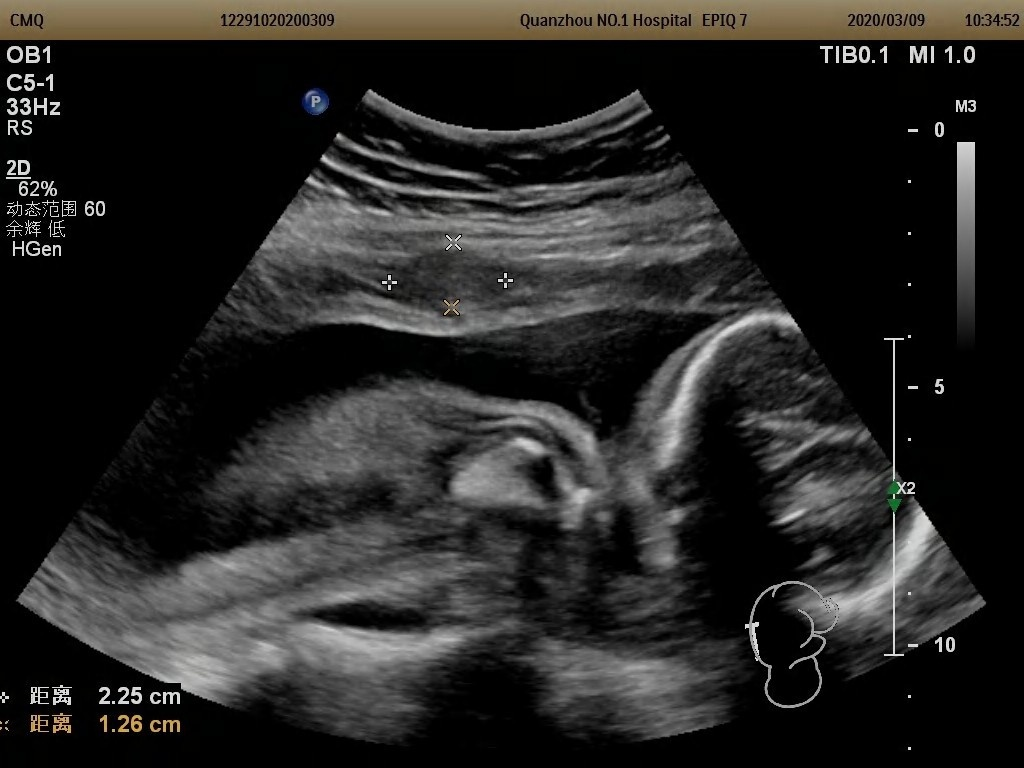肌瘤: (388, 242, 508, 308)
